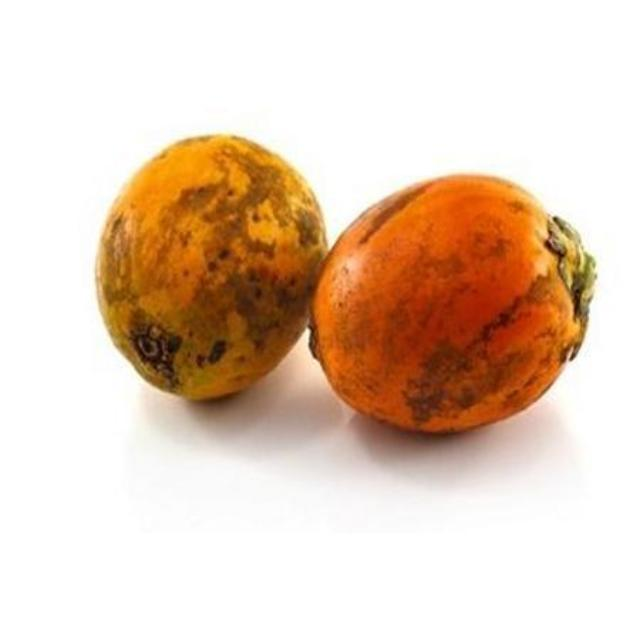good: (310, 175, 593, 437), (94, 134, 330, 404)
